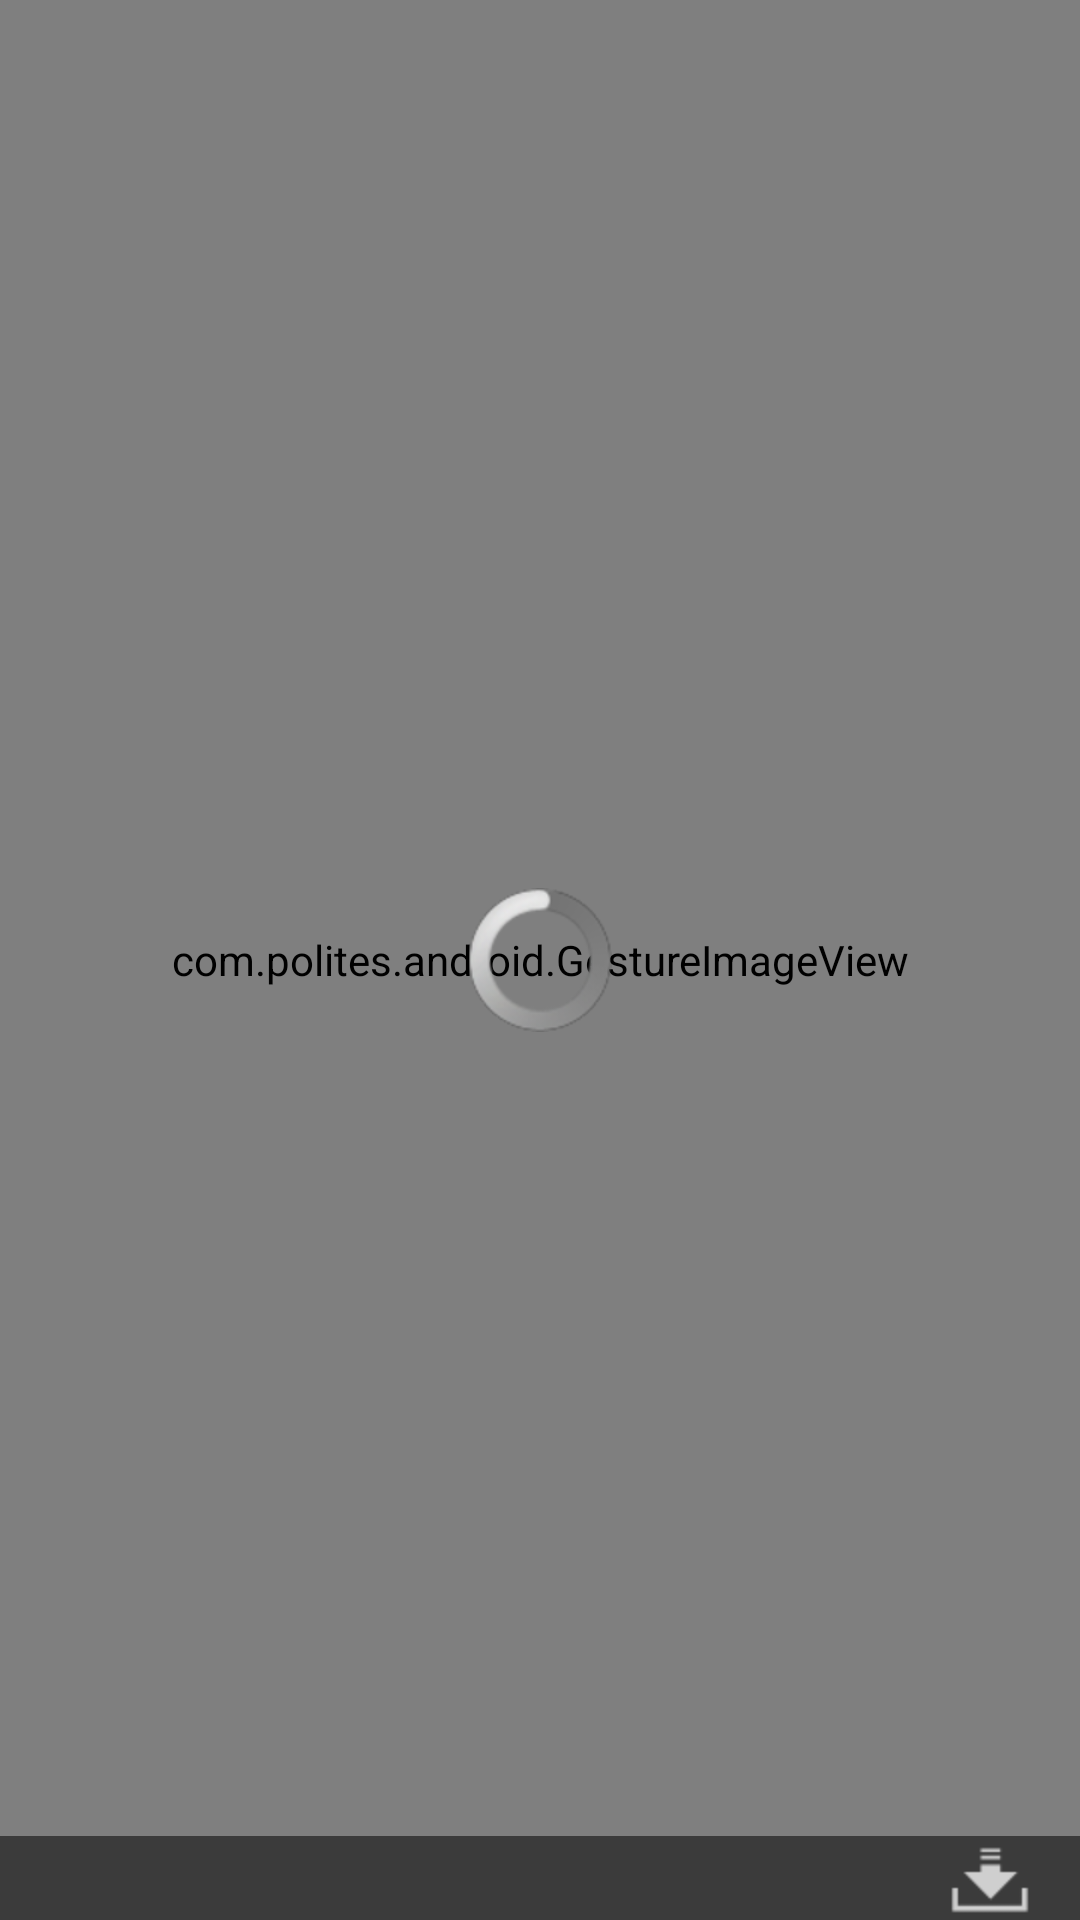

Where icons sit on this 1080x1920 app screen, as (x1, y1, x2, y2):
download: (951, 1848, 1028, 1912)
